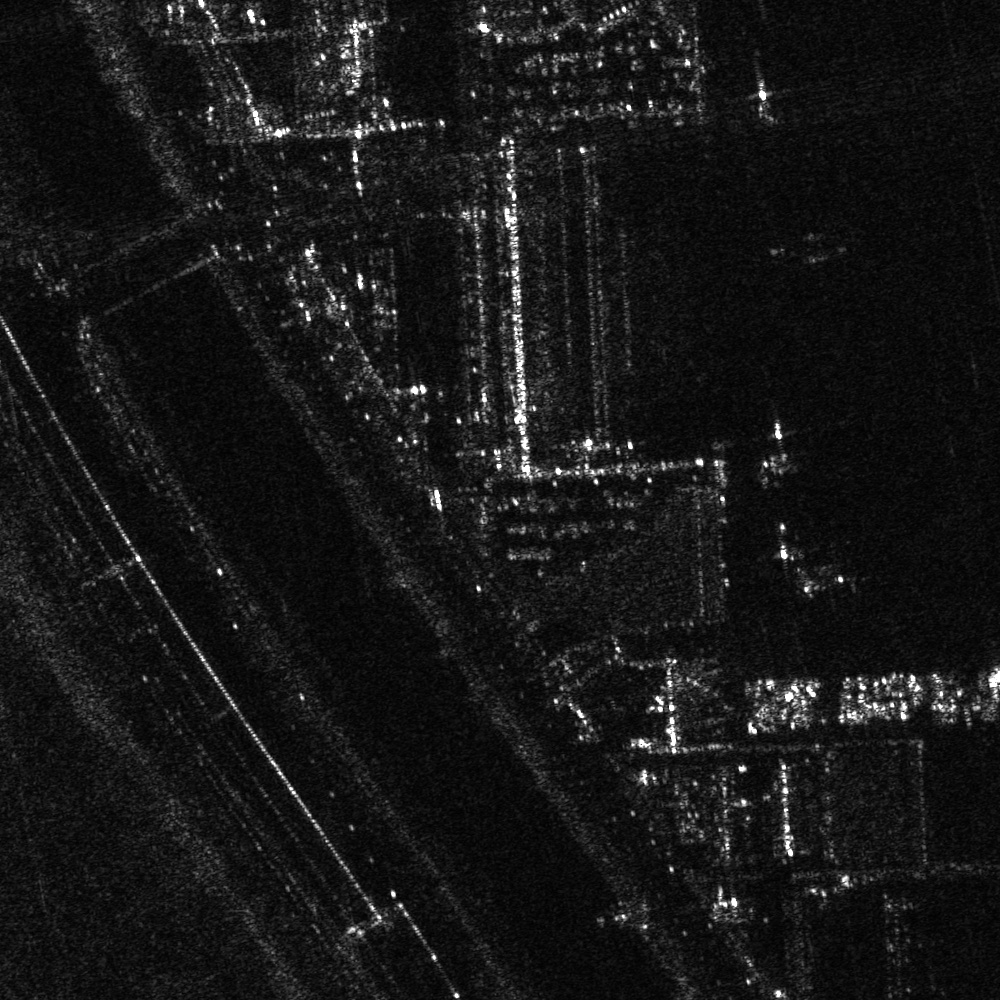A220: (736, 68, 791, 123), (750, 418, 802, 475), (761, 519, 807, 573)
other: (783, 569, 849, 603)
